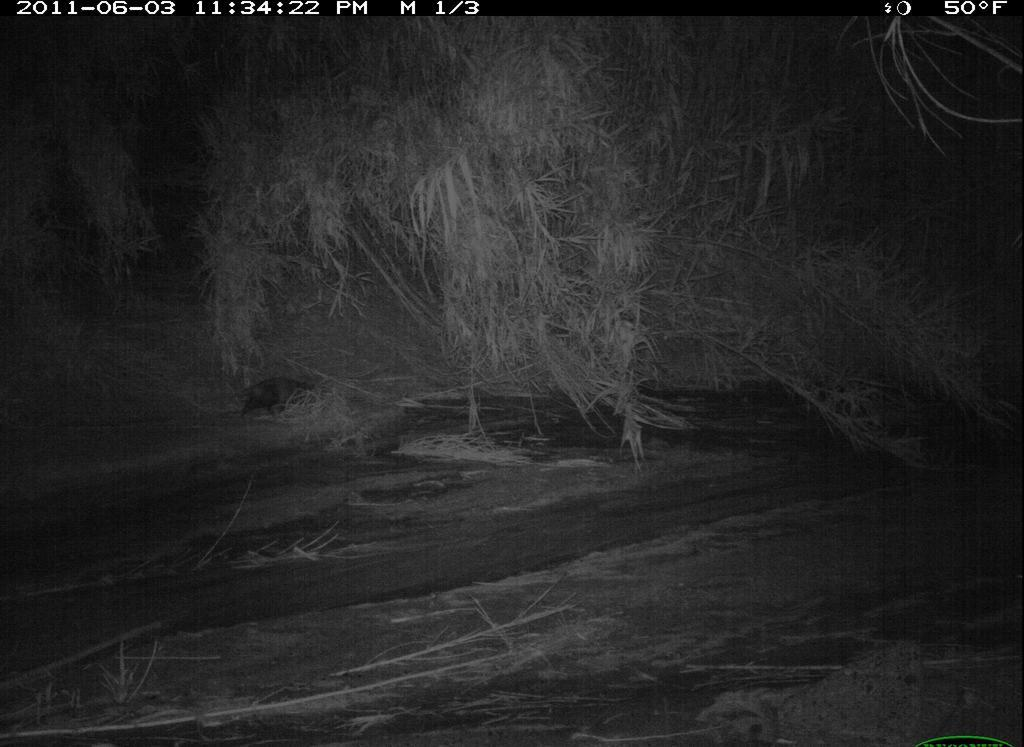opossum: (206, 373, 326, 426)
